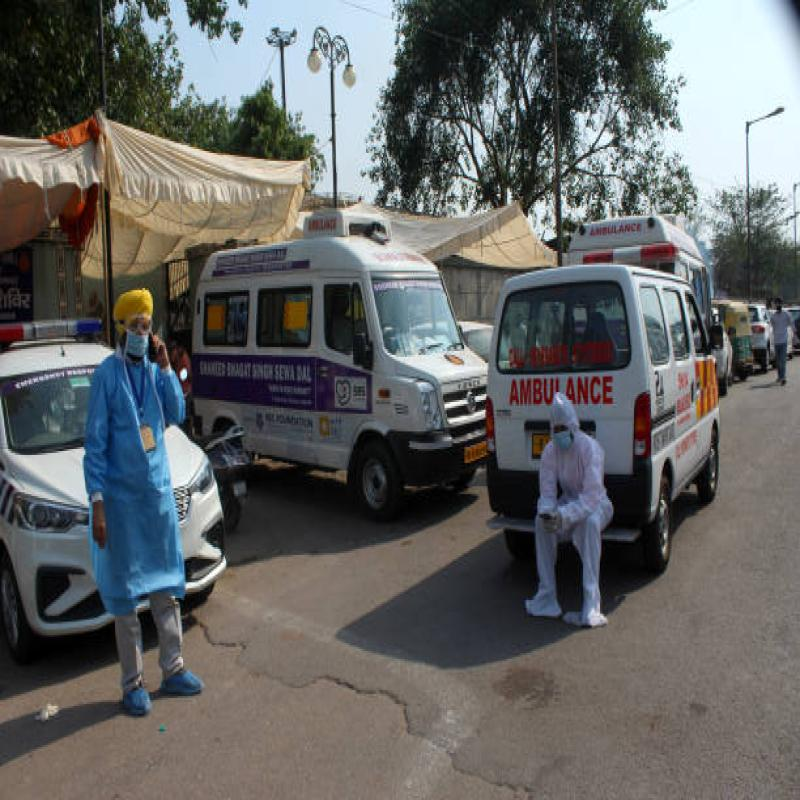ambulance: (176, 176, 486, 518), (481, 176, 732, 562)
